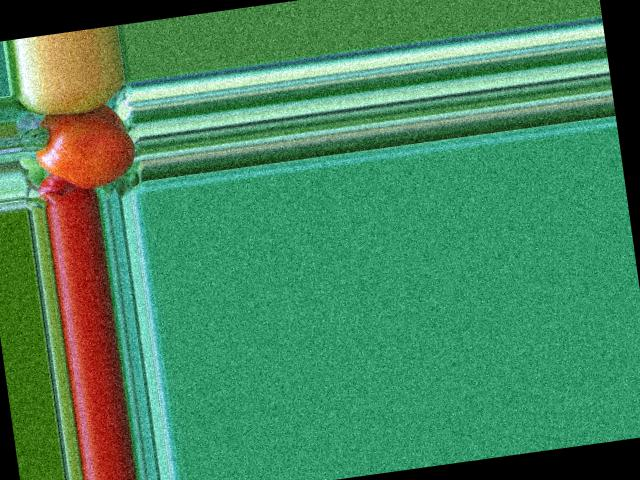tomato: (31, 105, 138, 195)
